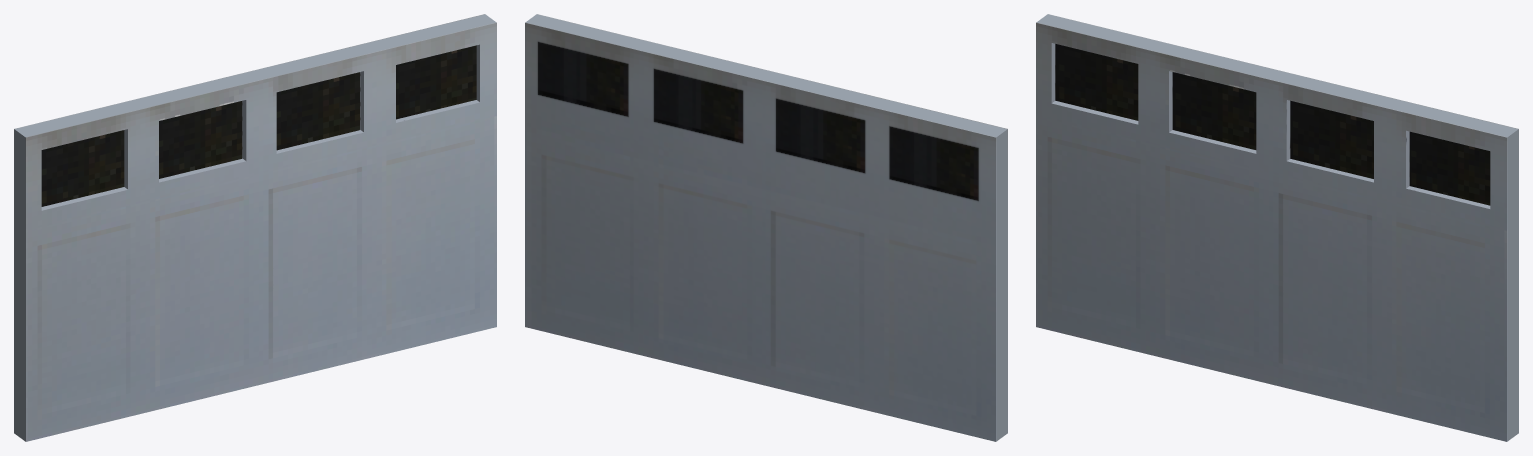
The model's file is gar_žov_door.fbx.
The picture shows the model from 3 angles, left to right: view 1: azimuth 30°, elevation 25°; view 2: azimuth 150°, elevation 25°; view 3: azimuth 330°, elevation 25°; orthographic projection.
Visible parts, largest first — view 1: garážová vrata; view 2: garážová vrata; view 3: garážová vrata.
Boxes of the visible parts, left/top/right/bottom form: garážová vrata: left=14, top=14, right=496, bottom=441; garážová vrata: left=525, top=14, right=1007, bottom=441; garážová vrata: left=1036, top=14, right=1518, bottom=441.
Size of the model in its own units: 491 by 303 by 21.58.
